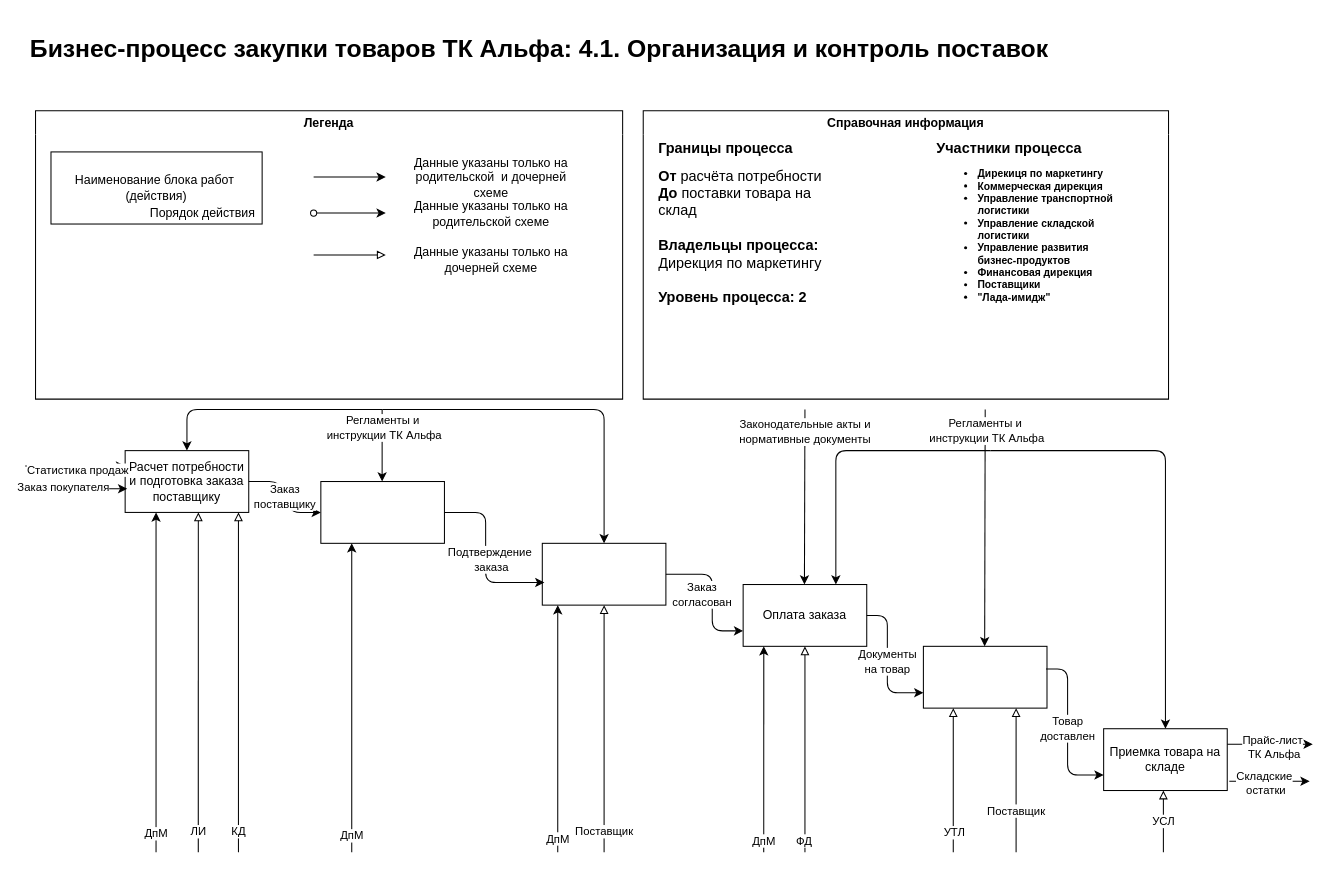
Image size: 1340x879. Some labels were removed from this diagram. The shapes that lost their labels are listed below. From the top down, each one's centre as x and y in pixels, then its label:
(382,511): Отправка заказа поставщику и получение обратной связи
(603,573): Согласование заказа и условий поставки
(984,676): Самовывоз товара от поставщика или доставка товара на склад
